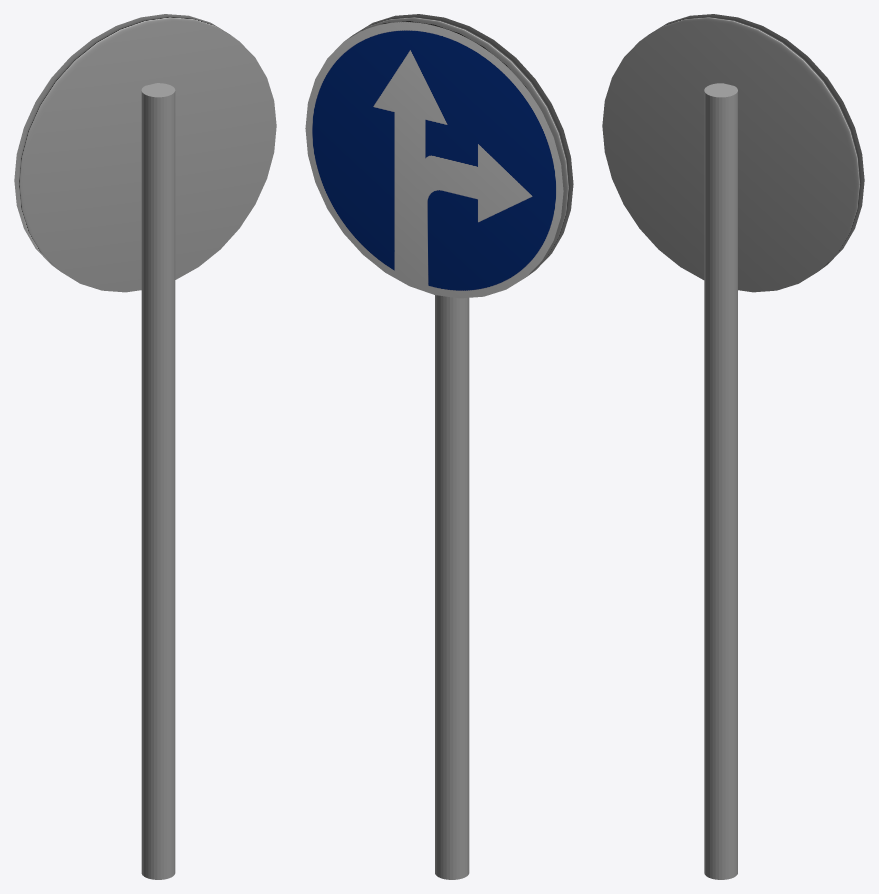
The model's file is ЗнакДвижениеПрямоИлиНаправо.fbx.
3 views of the same model, side by side, from view 1: azimuth 30°, elevation 25°; view 2: azimuth 150°, elevation 25°; view 3: azimuth 330°, elevation 25° (orthographic). The views are drawn at different scales.
Parts seen in each view (by area): view 1: Знак; view 2: Знак; view 3: Знак.
Part boxes in pixels (bbox=[...]): Знак: bbox=[14, 14, 276, 879]; Знак: bbox=[305, 14, 573, 879]; Знак: bbox=[602, 14, 864, 879].
Bounding box in the file's own units: 64.18 × 361 × 1150.
Materials: 2 (1 with a texture image).
